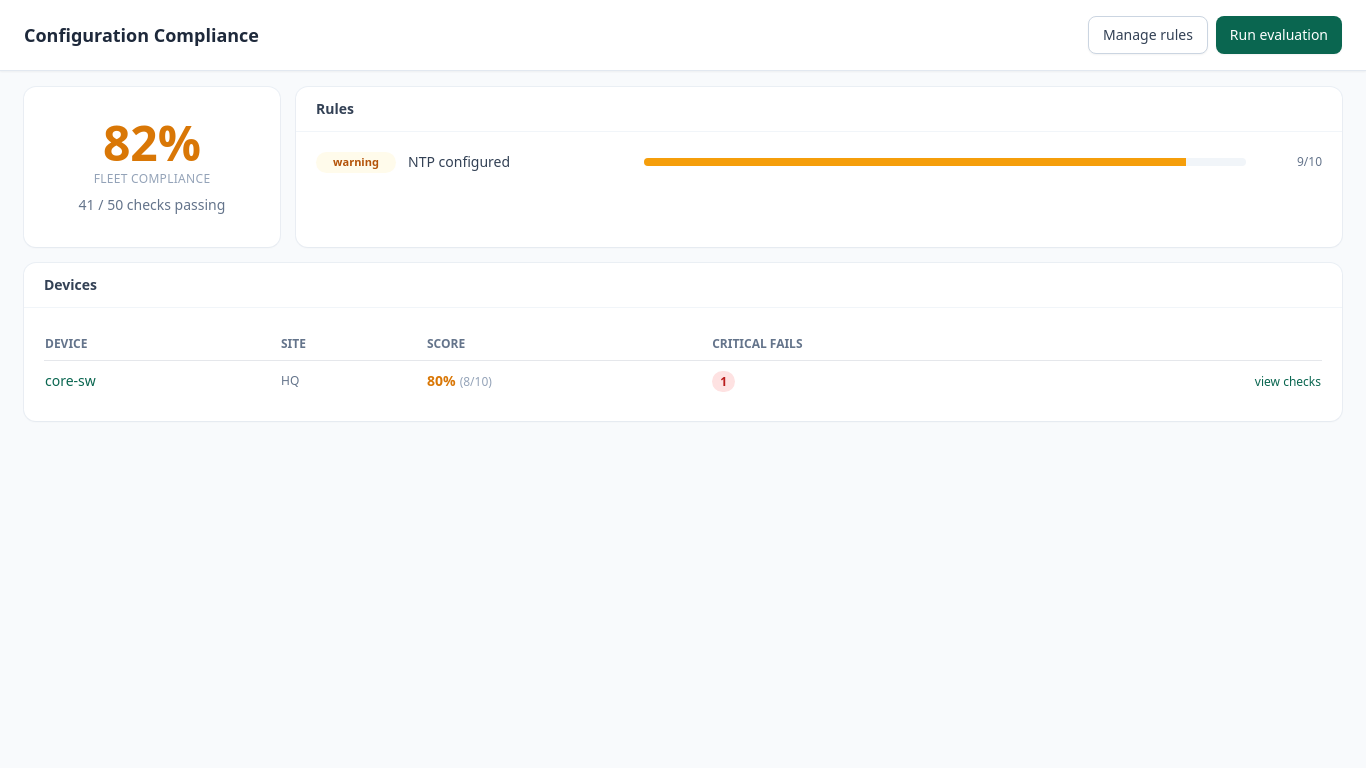
Test: Compliance device checks › opens the checks modal and lists the device rules
The width and height of the screenshot is (1366, 768).
Click the button "view checks" at x=1288, y=382, box x1=1255 y1=374 x2=1321 y2=390
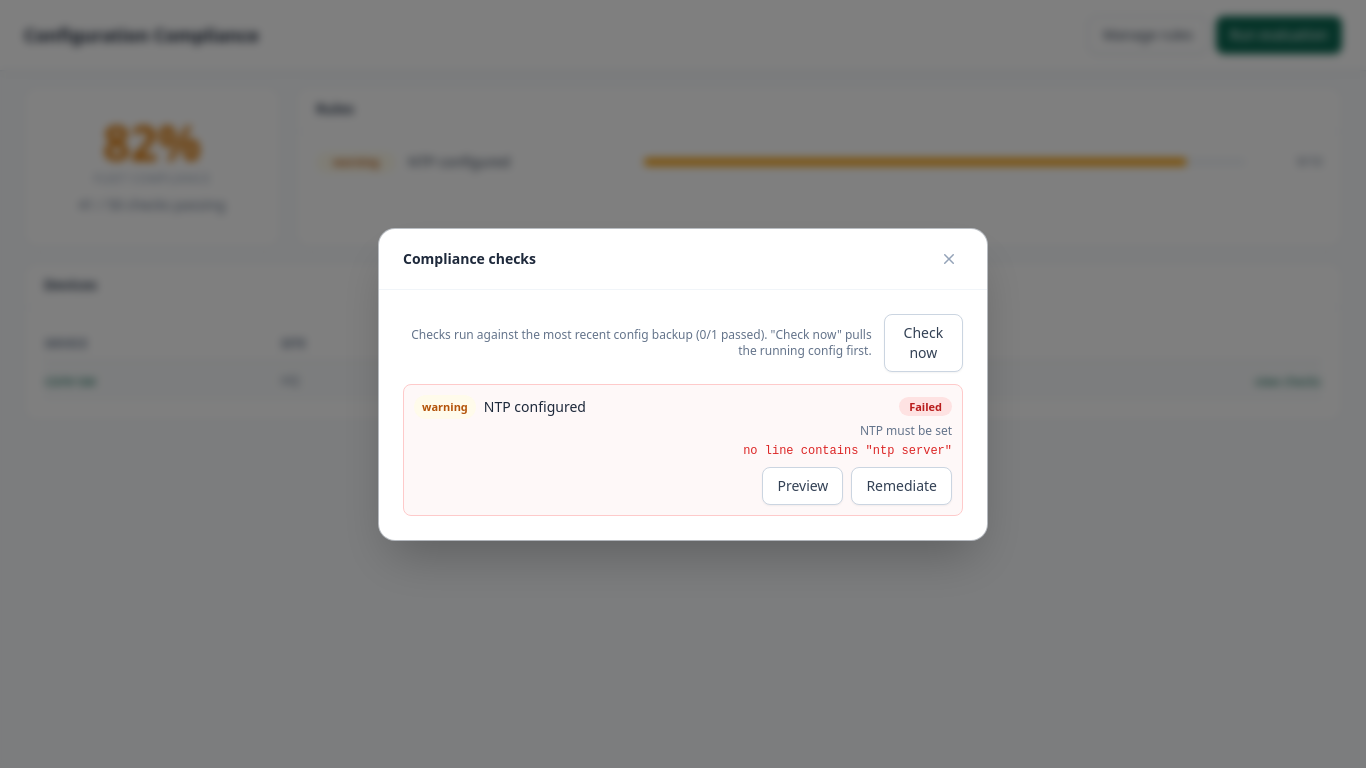
Check: the heading "Compliance checks" is shown, box x1=403 y1=248 x2=536 y2=268
Check: the text "Failed" is shown, box x1=899 y1=397 x2=952 y2=416
